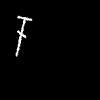double_crochet: (16, 16, 31, 55)
